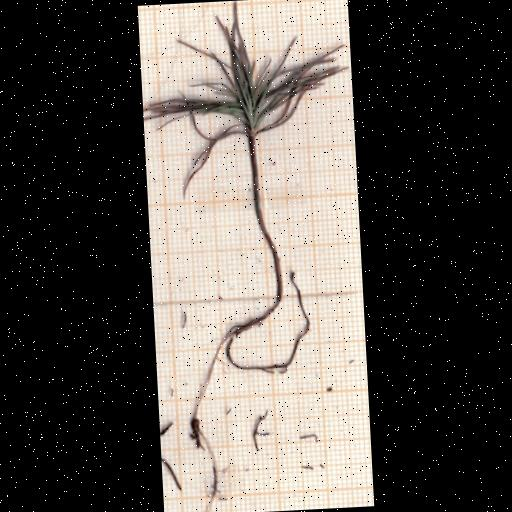flowerCedr: (145, 1, 347, 193)
rootCedr: (191, 273, 311, 509)
stemCedr: (247, 133, 283, 304)
stemPinus: (247, 135, 283, 305)
